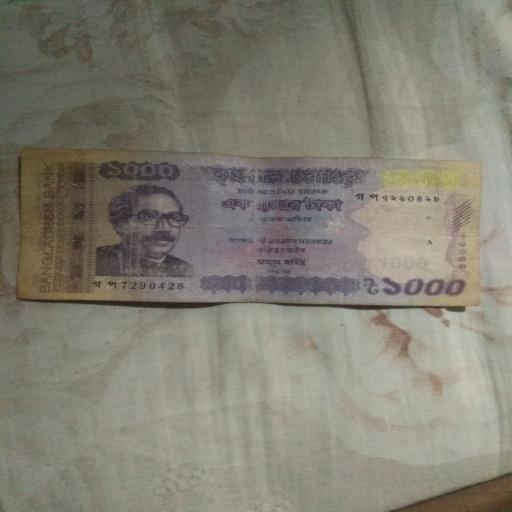1000taka: (17, 148, 481, 307)
